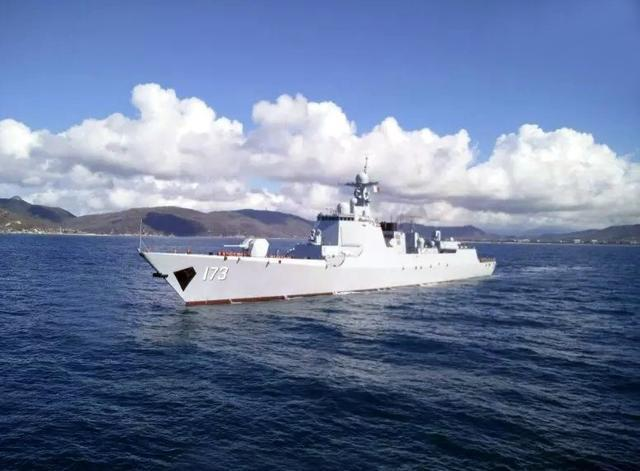warship: (131, 154, 502, 315)
